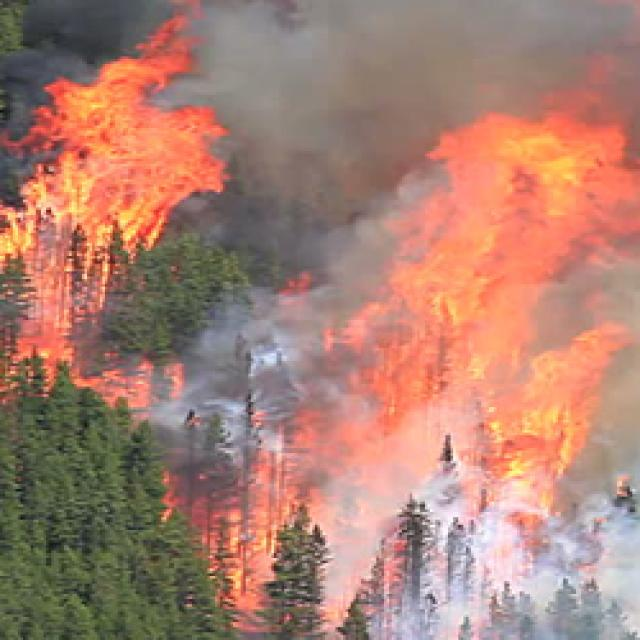fire: (453, 128, 613, 509), (36, 92, 185, 321), (196, 462, 320, 596)
smoke: (197, 12, 439, 150)
